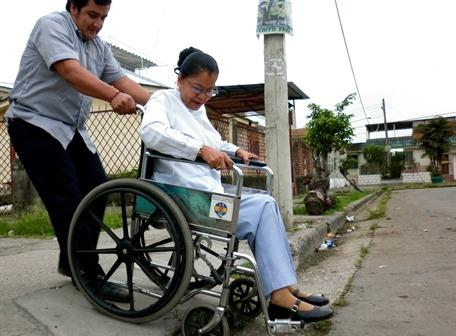push_wheelchair: (3, 0, 183, 305)
wheelchair: (67, 46, 334, 336)
